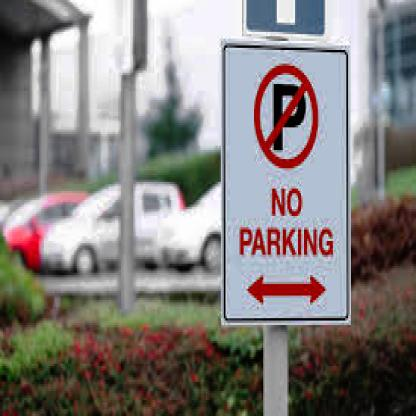No parking: (246, 51, 320, 176)
